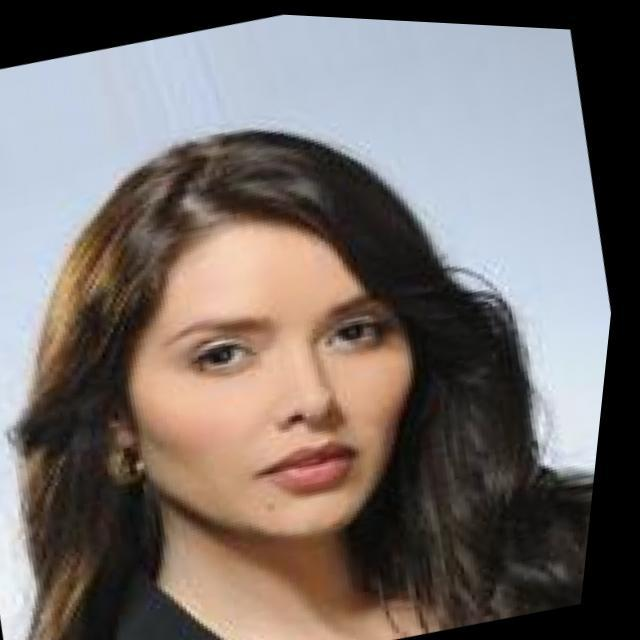Nonhelmet: (58, 114, 452, 560)
